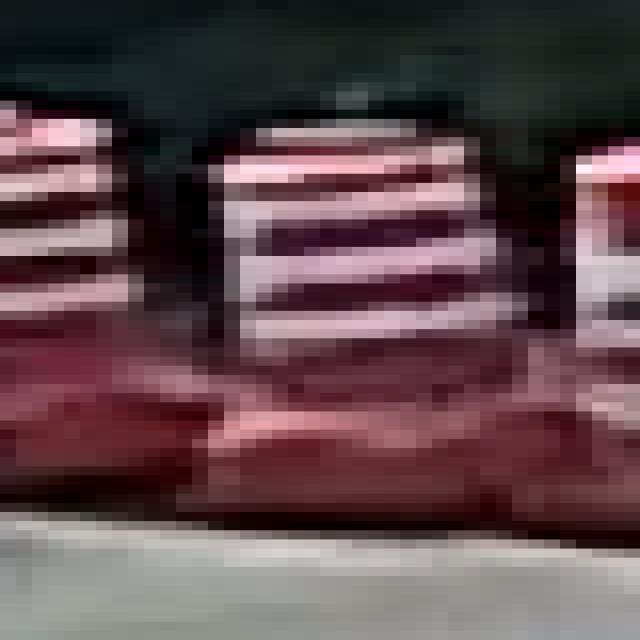big_cone: (214, 119, 504, 504), (0, 115, 145, 483)
